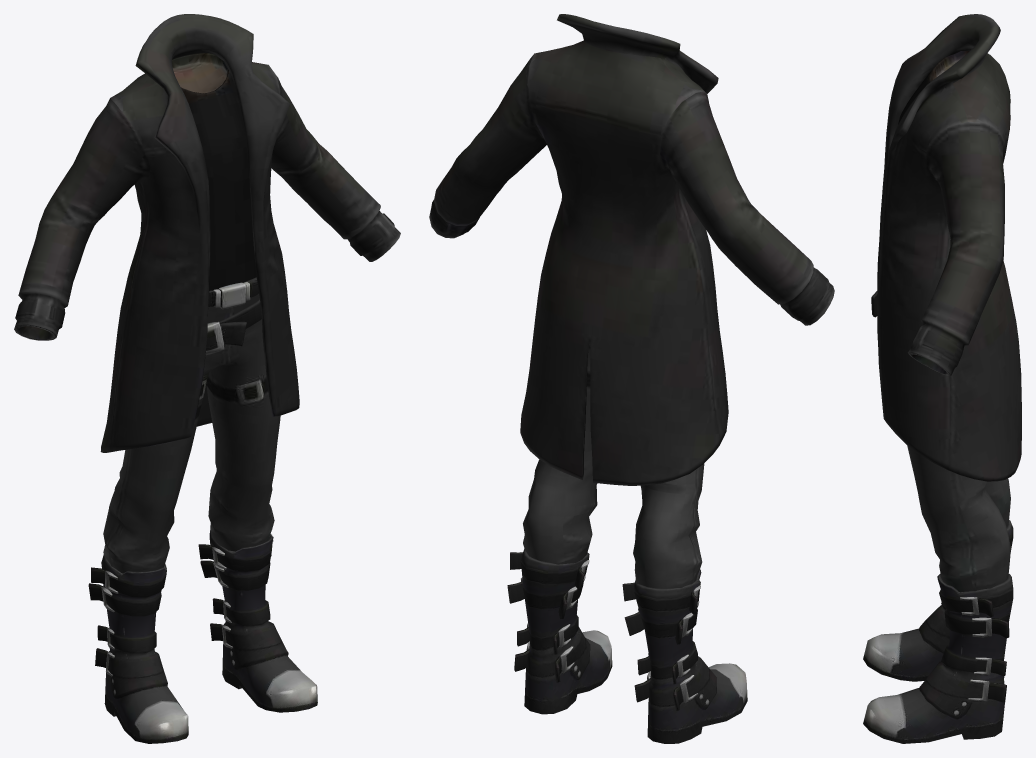
Rendered from outfit2.glb.
3 renders of one model, left to right at view 1: azimuth 30°, elevation 25°; view 2: azimuth 150°, elevation 25°; view 3: azimuth 270°, elevation 25°, orthographic. The views are drawn at different scales.
Visible parts, largest first — view 1: Wolf3D_Outfit_Top, Wolf3D_Outfit_Bottom, Wolf3D_Outfit_Footwear; view 2: Wolf3D_Outfit_Top, Wolf3D_Outfit_Footwear, Wolf3D_Outfit_Bottom; view 3: Wolf3D_Outfit_Top, Wolf3D_Outfit_Footwear, Wolf3D_Outfit_Bottom.
Boxes of the visible parts, bbox=[...] form: Wolf3D_Outfit_Top: bbox=[14, 14, 400, 452]; Wolf3D_Outfit_Bottom: bbox=[103, 277, 280, 573]; Wolf3D_Outfit_Footwear: bbox=[88, 530, 317, 743]; Wolf3D_Outfit_Top: bbox=[429, 14, 834, 485]; Wolf3D_Outfit_Footwear: bbox=[507, 548, 747, 743]; Wolf3D_Outfit_Bottom: bbox=[523, 340, 704, 588]; Wolf3D_Outfit_Top: bbox=[877, 14, 1021, 481]; Wolf3D_Outfit_Footwear: bbox=[863, 520, 1013, 743]; Wolf3D_Outfit_Bottom: bbox=[871, 290, 1010, 592].
Bounding box in the file's own units: 0.9842 × 1.66 × 0.3536.
3 materials, 3 textured.
